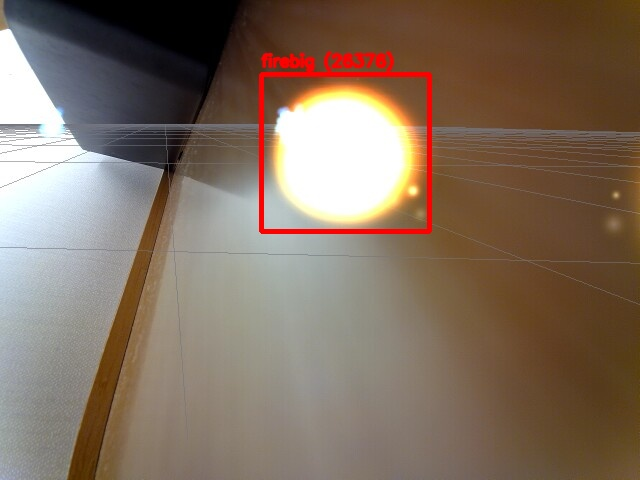firebig: (261, 74, 429, 231)
